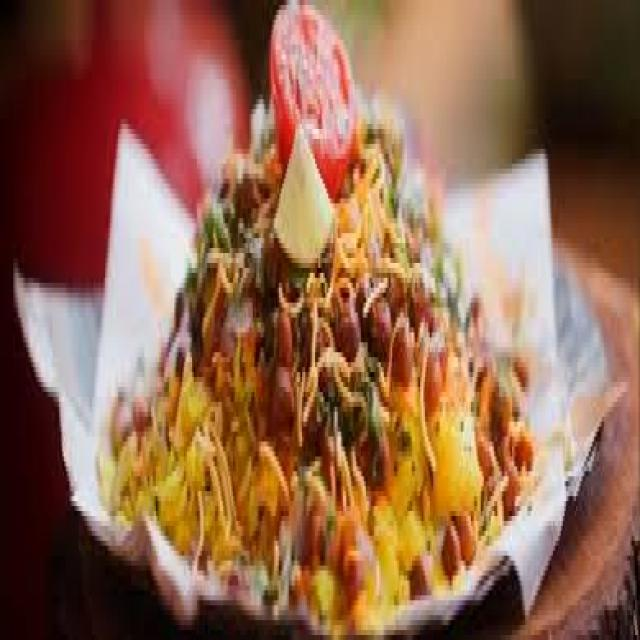POHA: (102, 6, 543, 615)
